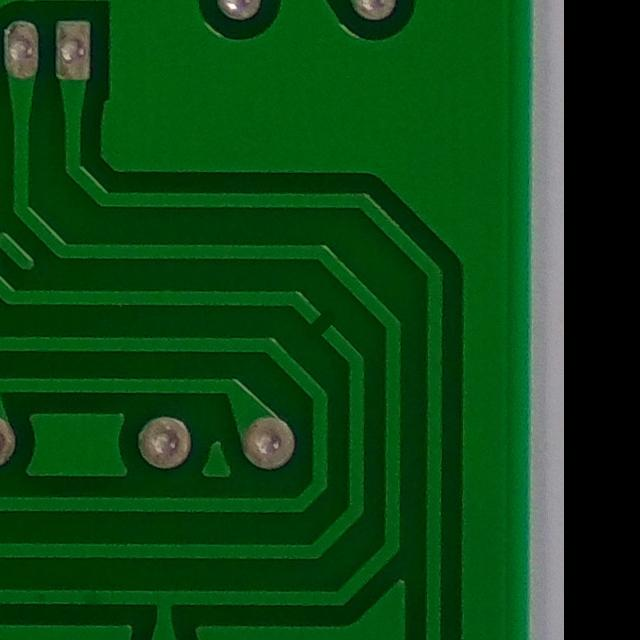open_circuit: (299, 293, 341, 348)
